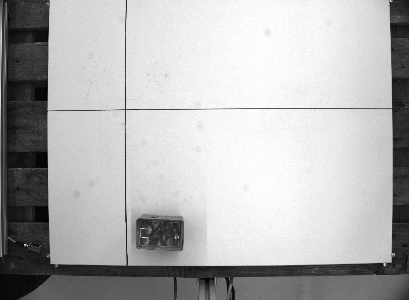kltxs: (134, 210, 187, 251)
